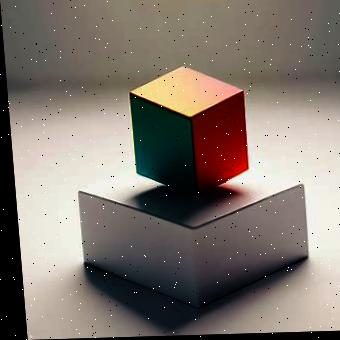cube: (124, 63, 247, 197)
